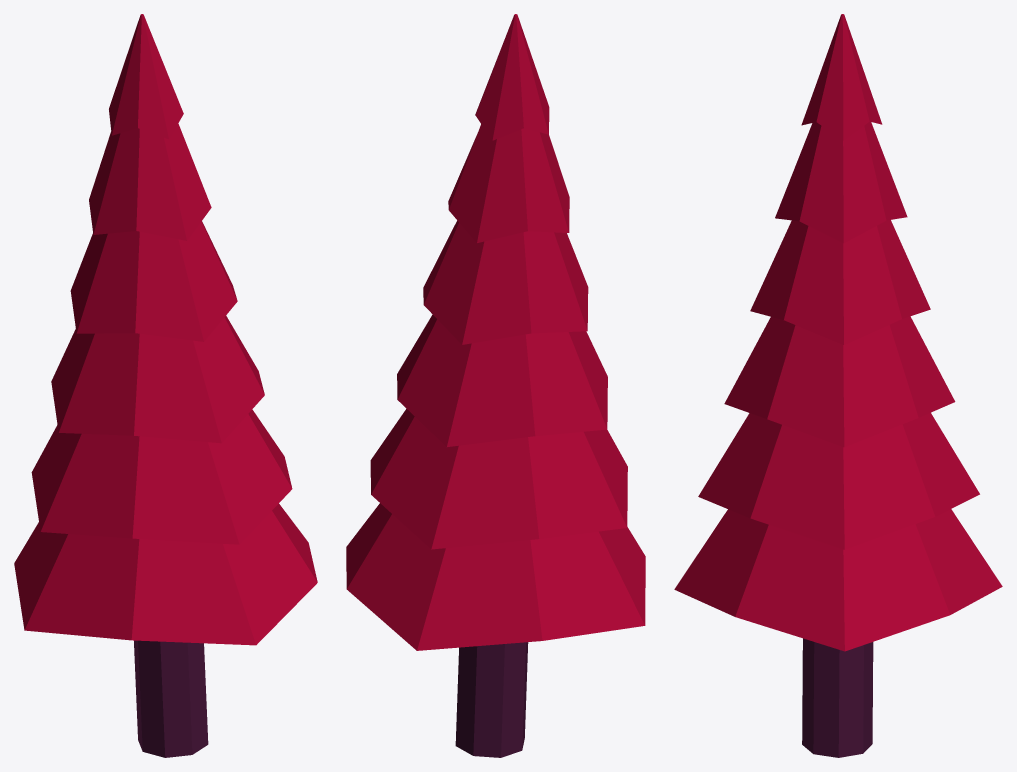
The model's file is Tree_Red.fbx.
The picture shows the model from 3 angles, left to right: view 1: azimuth 30°, elevation 25°; view 2: azimuth 150°, elevation 25°; view 3: azimuth 270°, elevation 25°; orthographic projection. The views are drawn at different scales.
Parts seen in each view (by area): view 1: Mesh; view 2: Mesh; view 3: Mesh.
Boxes of the visible parts, <box> form: Mesh: <box>14,14,317,757</box>; Mesh: <box>346,14,645,757</box>; Mesh: <box>674,14,1002,757</box>.
Size of the model in its own units: 463 by 1116 by 463.
